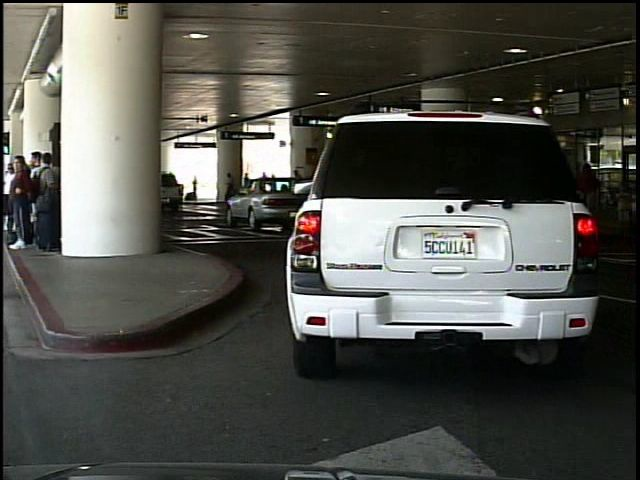person: (226, 170, 237, 199), (192, 175, 200, 202)
